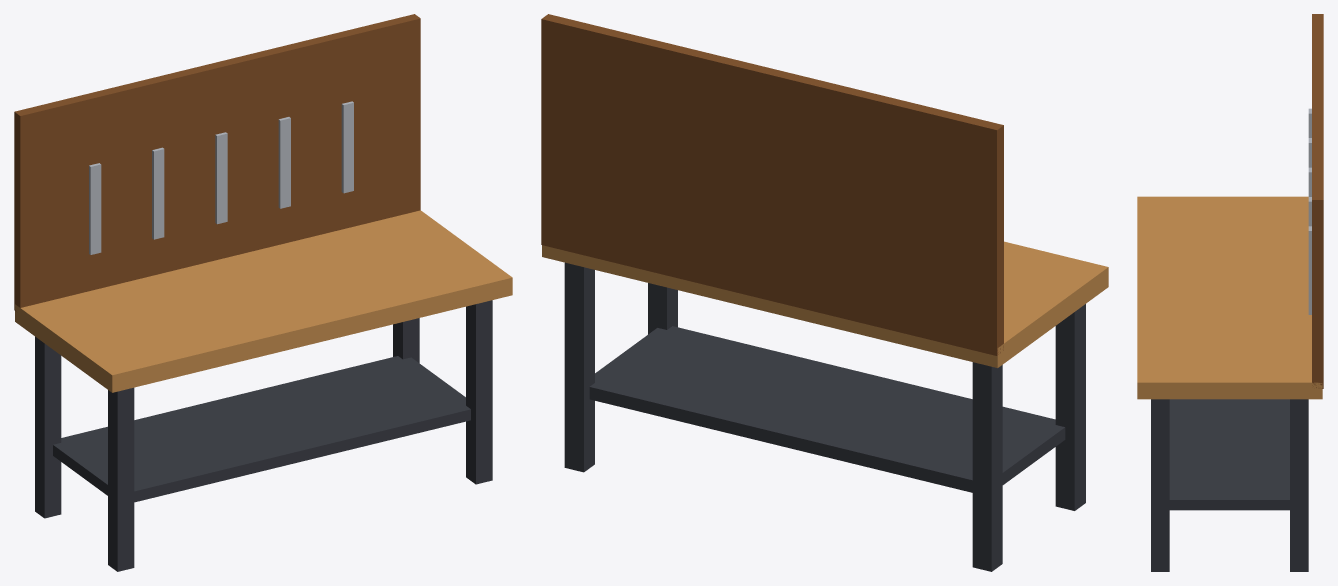
File: garage_workbench.glb
3 renders of one model, left to right at view 1: azimuth 30°, elevation 25°; view 2: azimuth 150°, elevation 25°; view 3: azimuth 270°, elevation 25°, orthographic. The views are drawn at different scales.
Visible parts, largest first — view 1: workbench; view 2: workbench; view 3: workbench.
Boxes of the visible parts, x1,y1,x2,y2 form: workbench: (14,14,512,571); workbench: (541,14,1108,571); workbench: (1137,14,1323,571).
Bounding box in the file's own units: 1.9 × 1.8 × 0.805.
